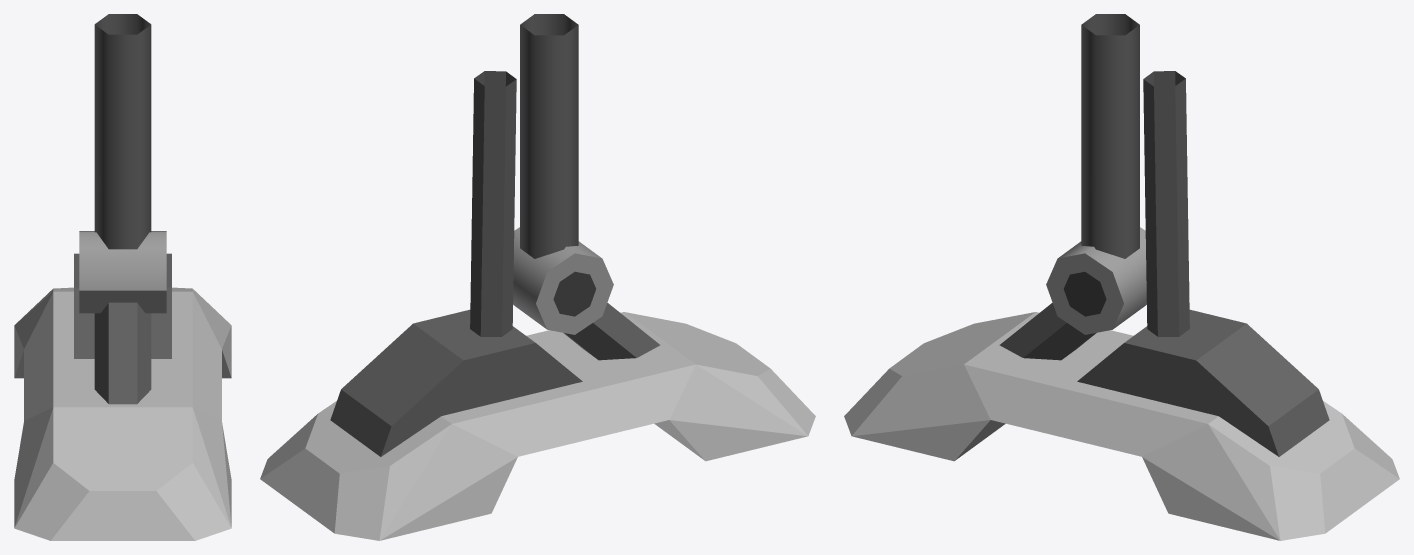
The model's file is Chassis_001.fbx.
3 renders of one model, left to right at view 1: azimuth 30°, elevation 25°; view 2: azimuth 150°, elevation 25°; view 3: azimuth 270°, elevation 25°, orthographic. The views are drawn at different scales.
Parts seen in each view (by area): view 1: Chassis_001; view 2: Chassis_001; view 3: Chassis_001.
Part boxes in pixels (x1,y1,x2,y2): Chassis_001: (14,14,231,540); Chassis_001: (260,14,815,540); Chassis_001: (844,14,1399,540).
Bounding box in the file's own units: 192 × 242 × 202.
